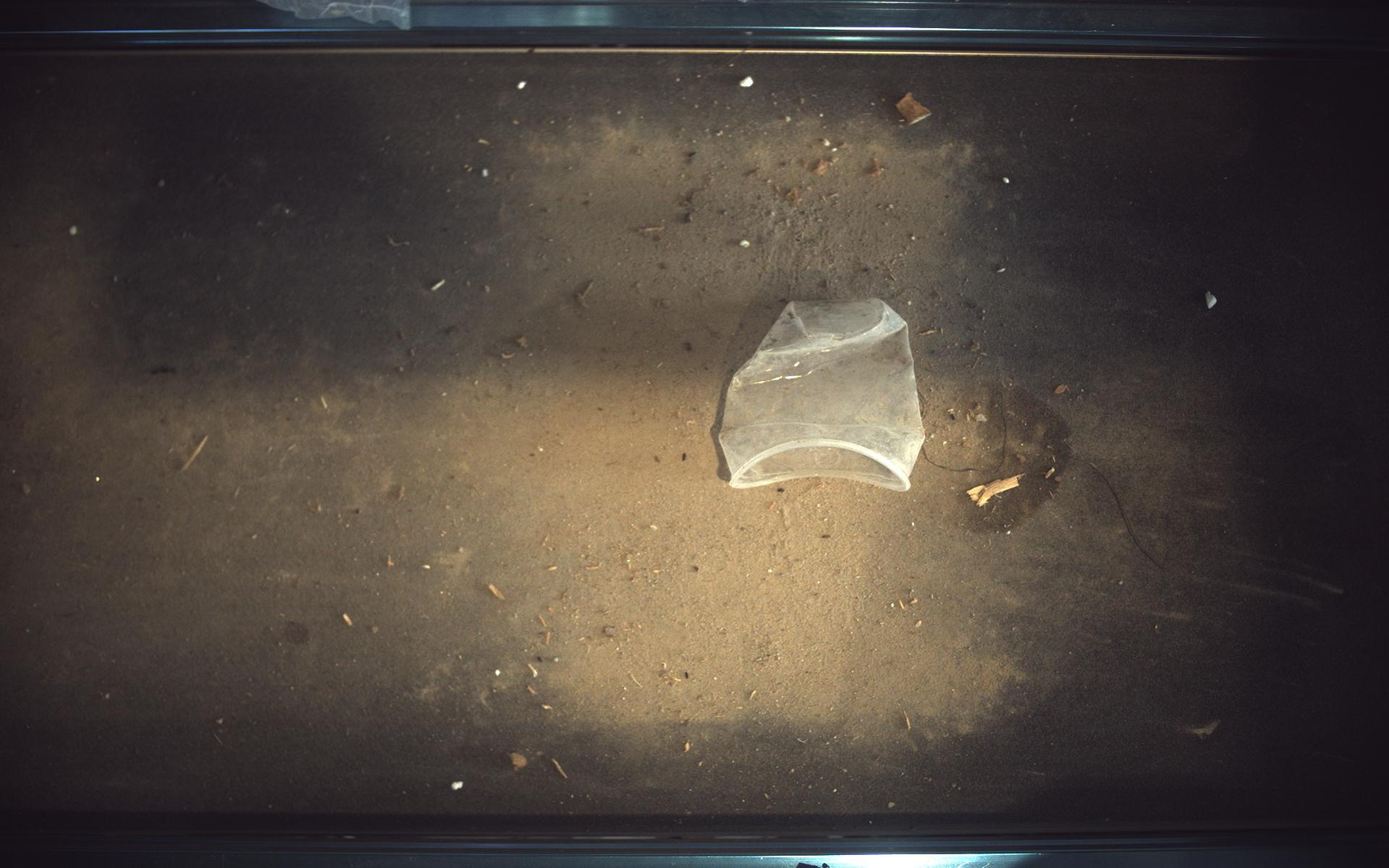general_w: (721, 298, 927, 491)
